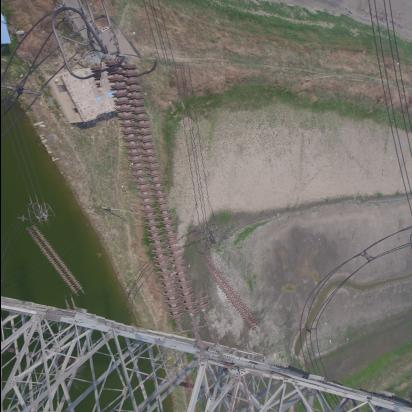insulator: (81, 59, 219, 334), (205, 241, 258, 344), (32, 218, 83, 304)
